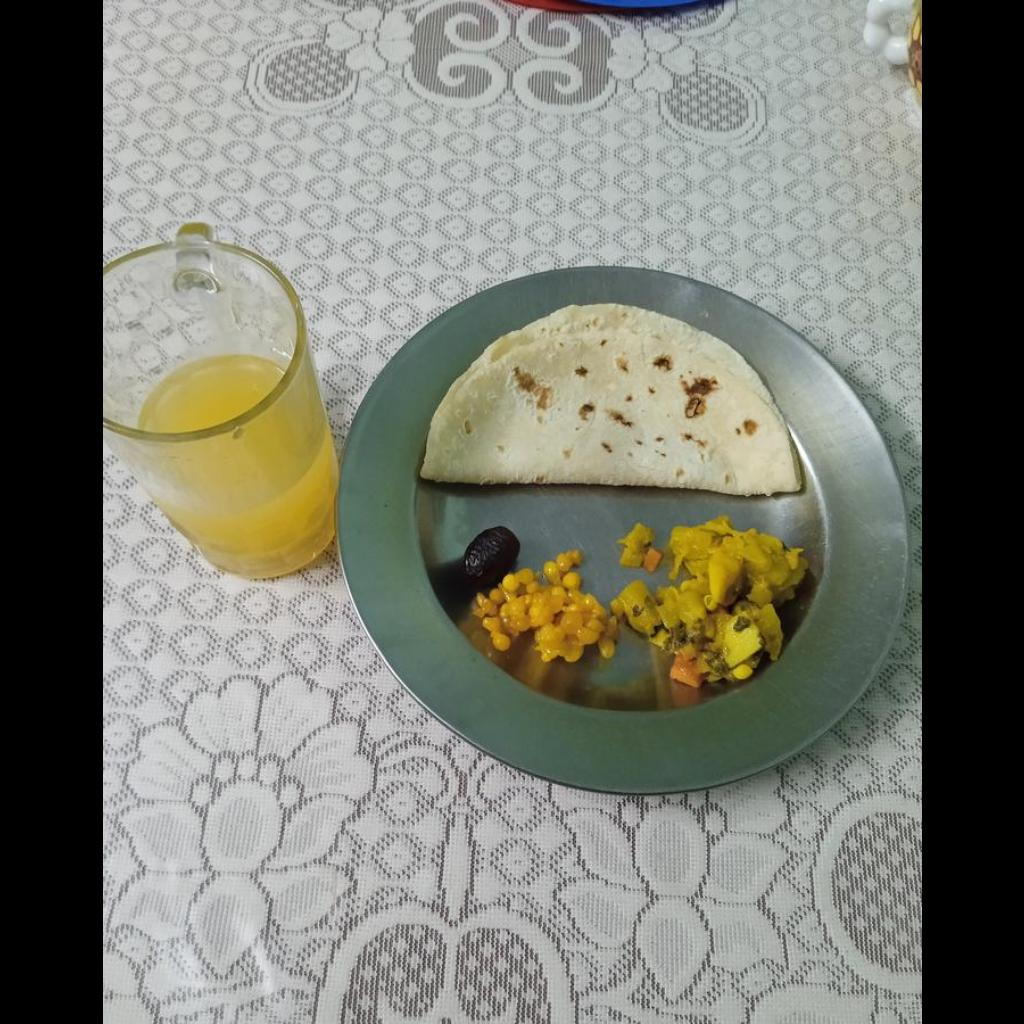burinda: (470, 554, 616, 663)
dates: (463, 526, 518, 588)
juice: (137, 355, 287, 431)
ruti: (420, 303, 797, 493)
vegetable: (613, 520, 818, 691)
